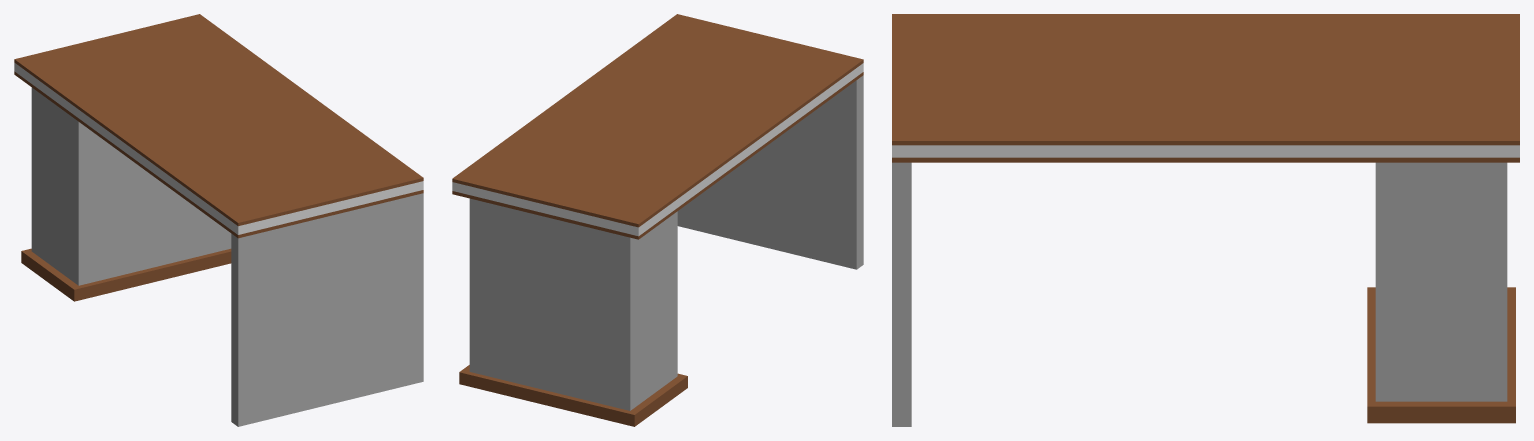
File: teahouse_table1.fbx
3 views of the same model, side by side, from view 1: azimuth 30°, elevation 25°; view 2: azimuth 150°, elevation 25°; view 3: azimuth 270°, elevation 25° (orthographic). The views are drawn at different scales.
Visible parts, largest first — view 1: Cube; view 2: Cube; view 3: Cube.
Part boxes in pixels (x1,y1,x2,y2): Cube: (14,14,423,426); Cube: (452,14,863,426); Cube: (892,14,1519,426).
Size of the model in its own units: 216 by 227 by 452.
